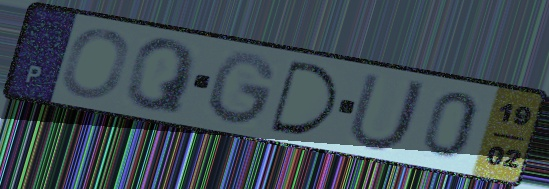0: (420, 88, 483, 163)
D: (267, 57, 341, 138)
G: (205, 49, 280, 130)
O: (57, 27, 133, 101)
Q: (122, 37, 200, 118)
U: (344, 70, 431, 154)
